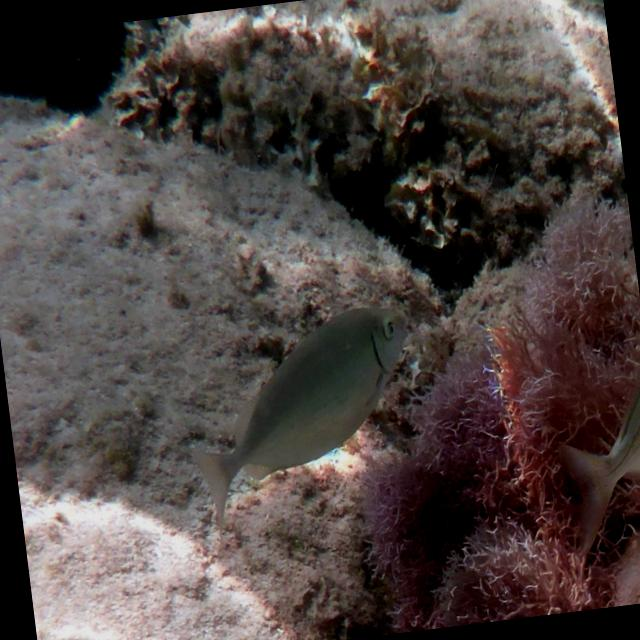Sokar Baligi: (173, 290, 436, 544)
